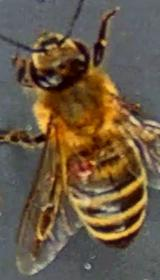varroa_mite: (54, 143, 102, 182)
